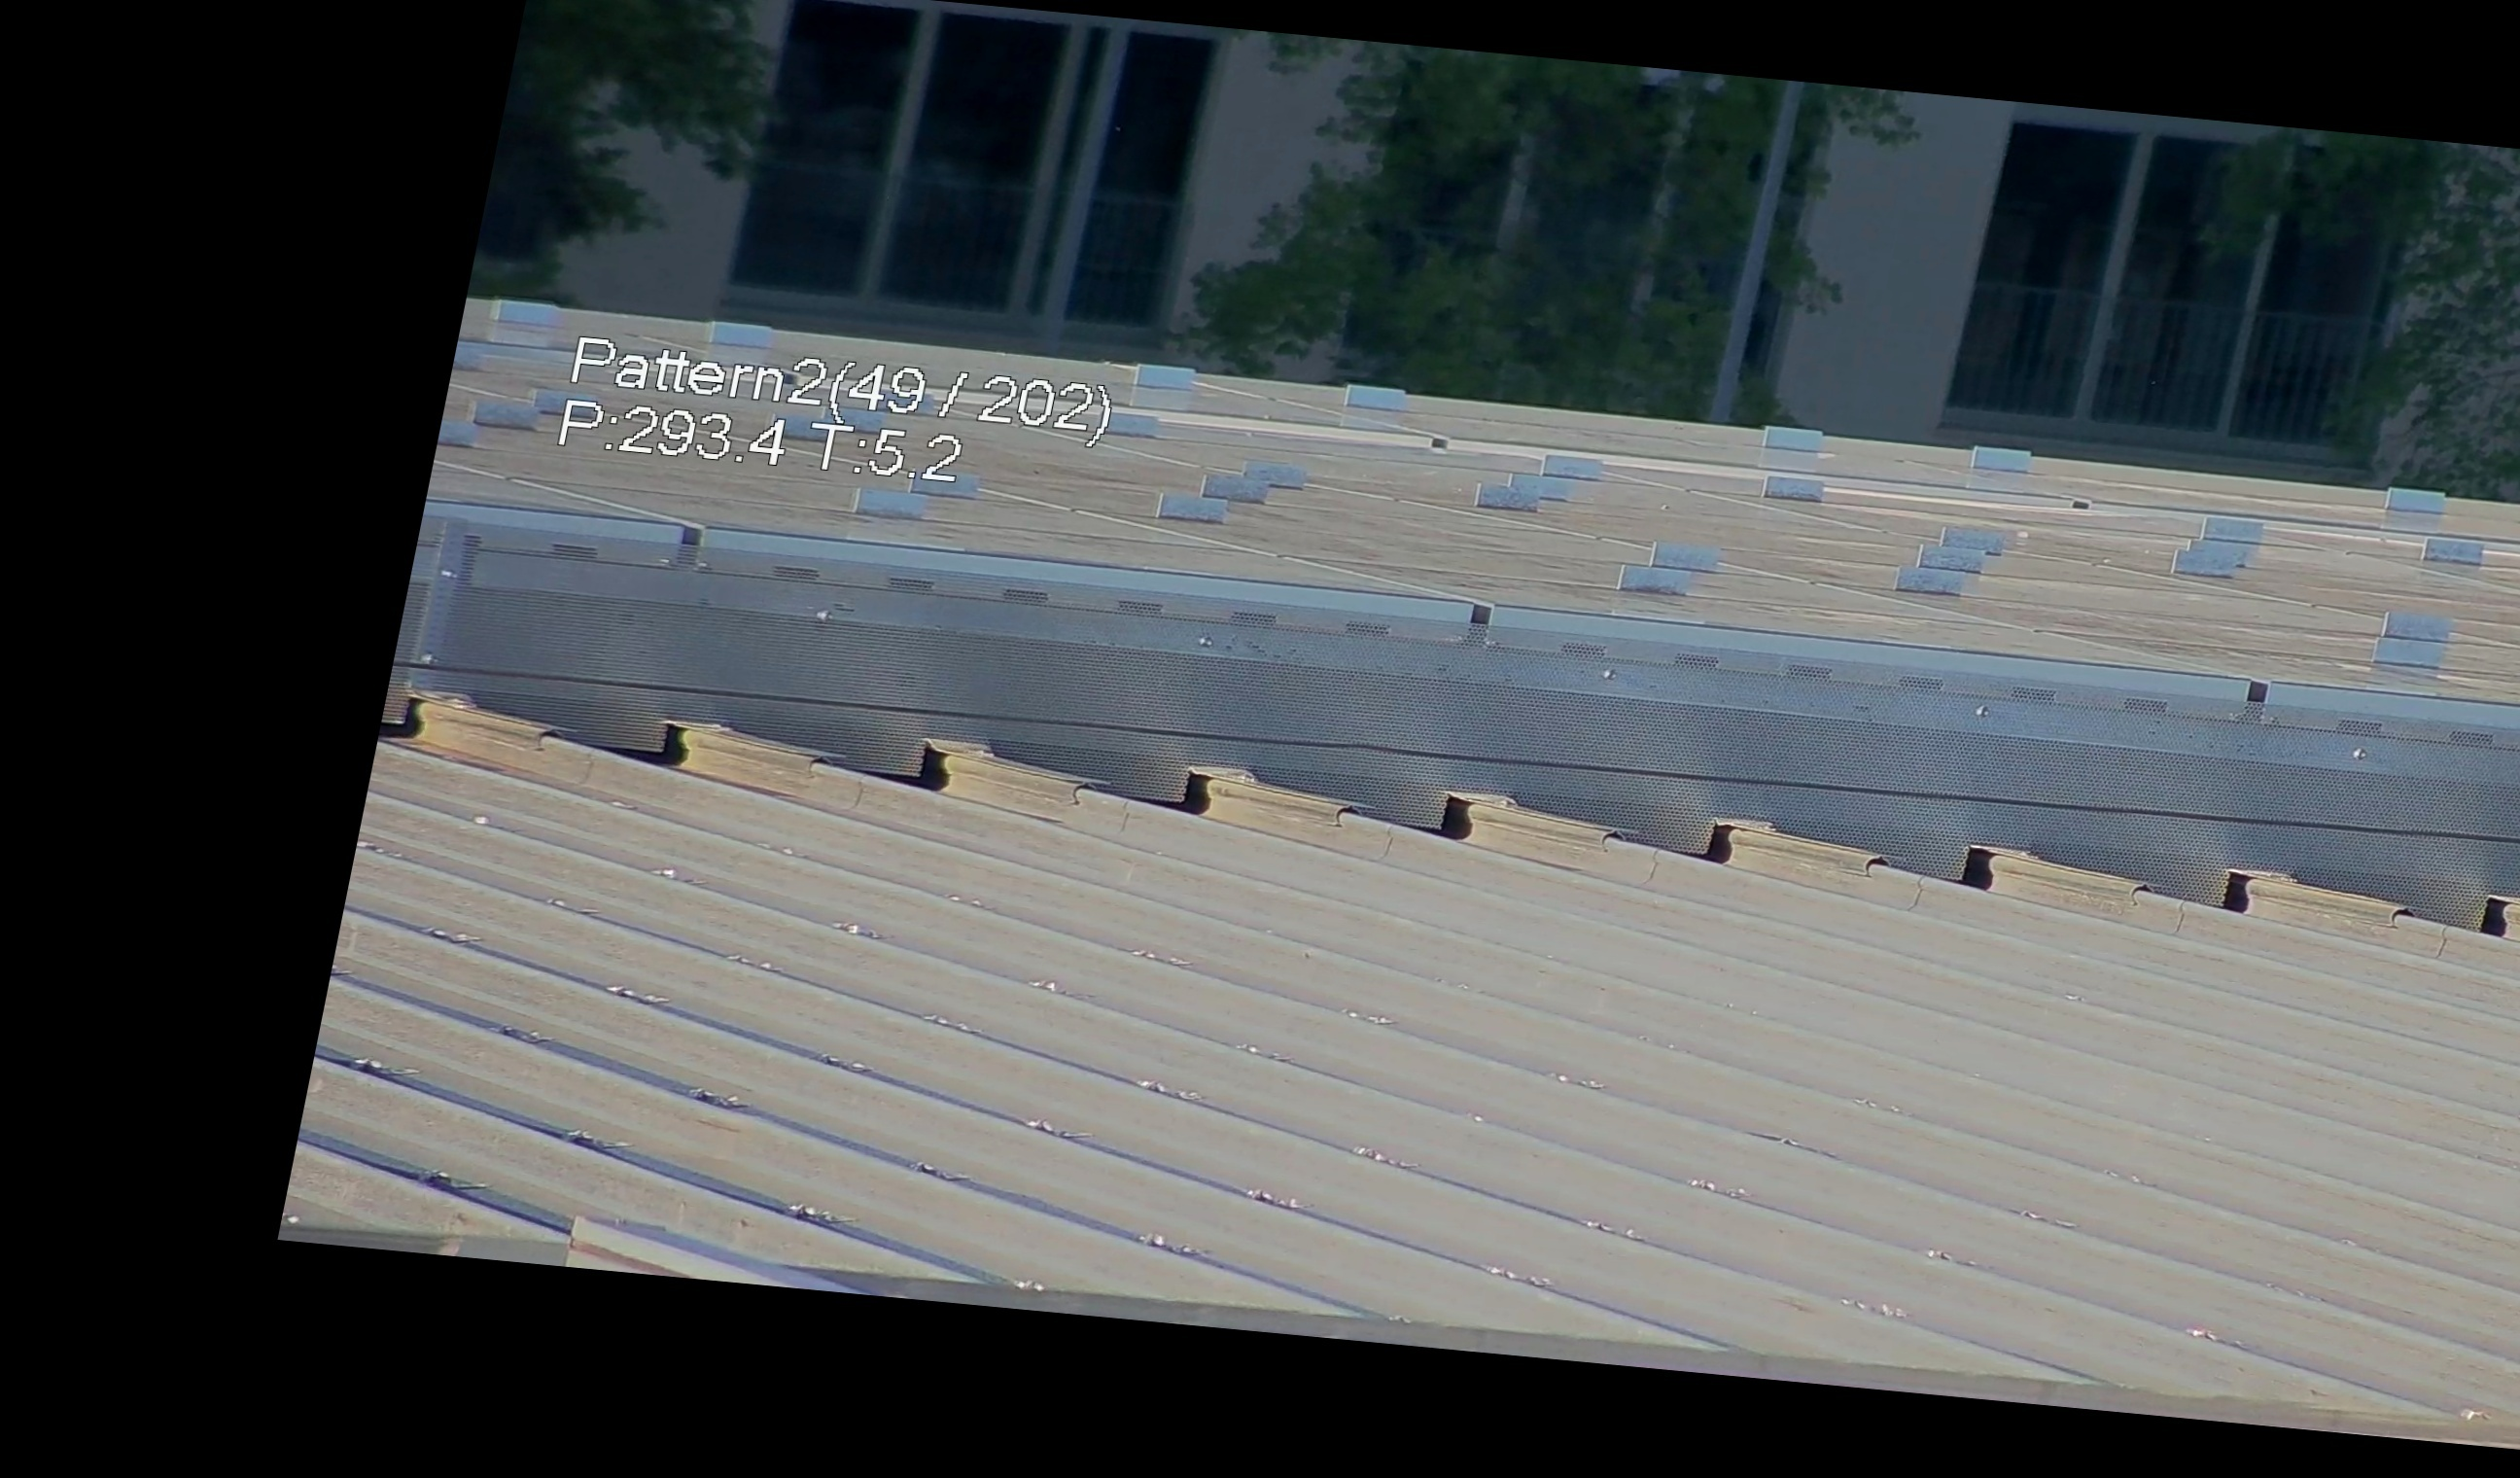Other: (870, 728, 951, 794)
